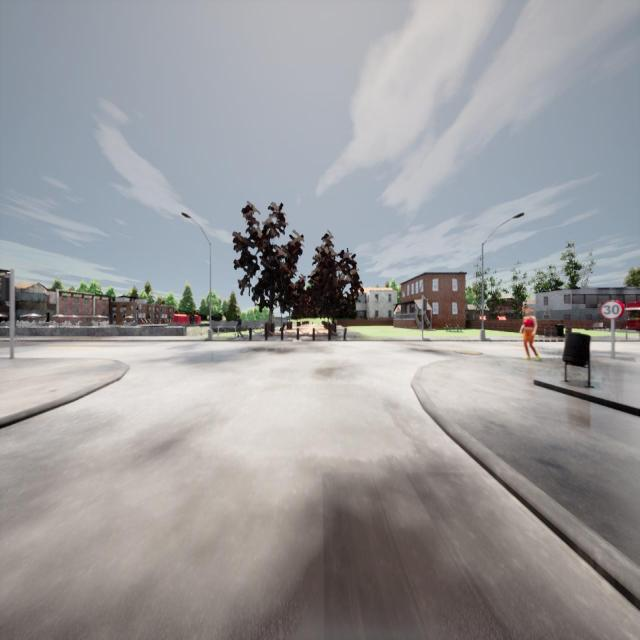Pedestrian: (519, 308, 539, 360), (236, 315, 244, 338)
Traffic_Signs: (600, 300, 626, 320)
traffic_light: (1, 278, 9, 300), (423, 299, 427, 311)
